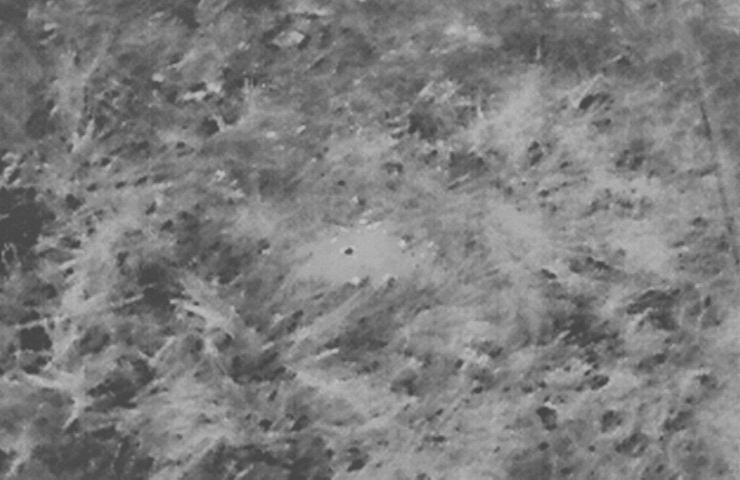landmines: (310, 220, 419, 298)
